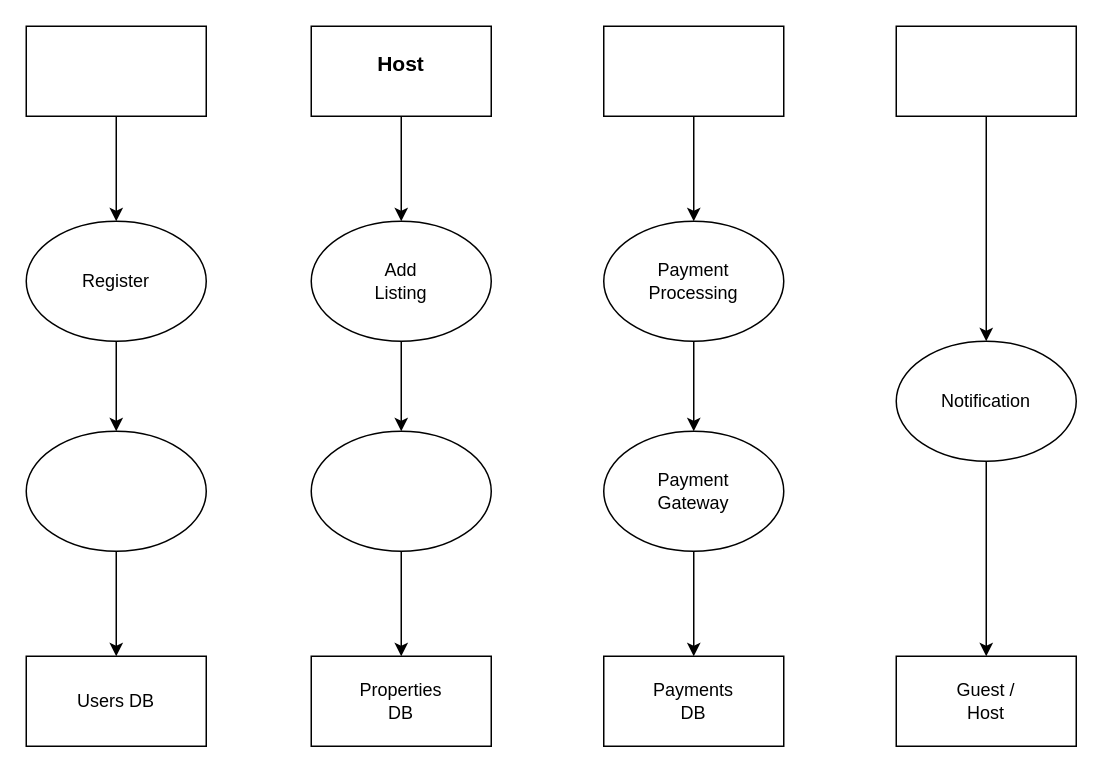
This 1103x773 diagram has some shape labels left out. Each missing label, with the centre of its shape:
Book Management: pixel 693 70
Guest: pixel 115 70
Listing Management: pixel 400 490
System: pixel 985 70
User Management: pixel 115 490
